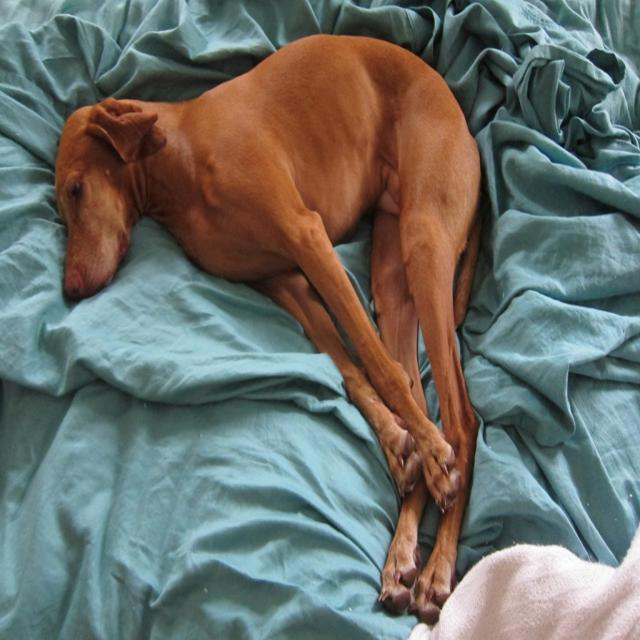laying down: (48, 27, 510, 625)
